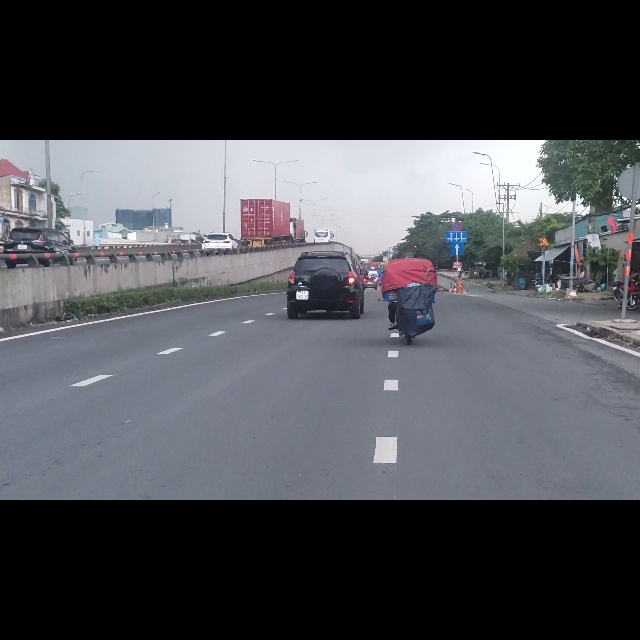bien_nguy_hiem: (450, 181, 465, 206), (452, 145, 462, 162), (539, 171, 549, 188)
